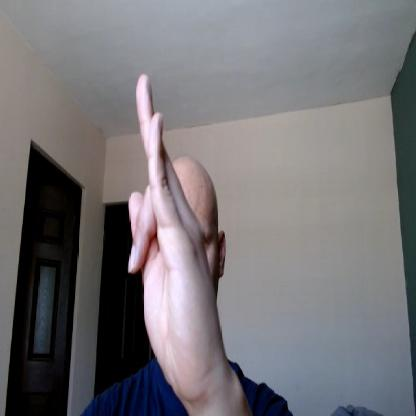F: (129, 71, 224, 395)
